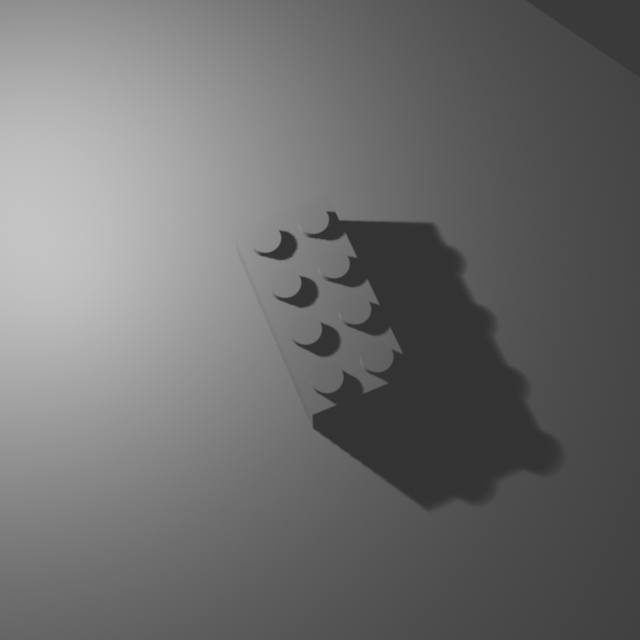lego_2x4: (232, 189, 413, 429)
